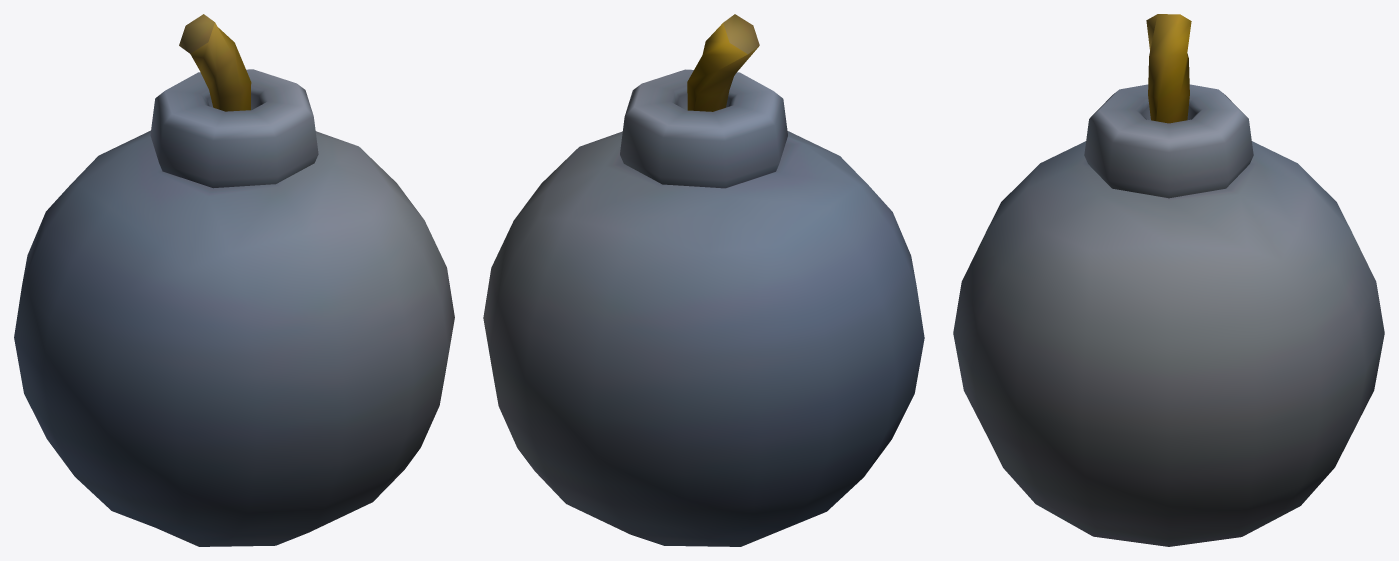
Rendered from bomb.fbx.
3 views of the same model, side by side, from view 1: azimuth 30°, elevation 25°; view 2: azimuth 150°, elevation 25°; view 3: azimuth 270°, elevation 25° (orthographic). The views are drawn at different scales.
Visible parts, largest first — view 1: bomb; view 2: bomb; view 3: bomb.
Boxes of the visible parts, x1,y1,x2,y2 form: bomb: (14,14,454,546); bomb: (483,14,924,546); bomb: (953,14,1384,546).
Bounding box in the file's own units: 13.83 × 17.53 × 13.83.
